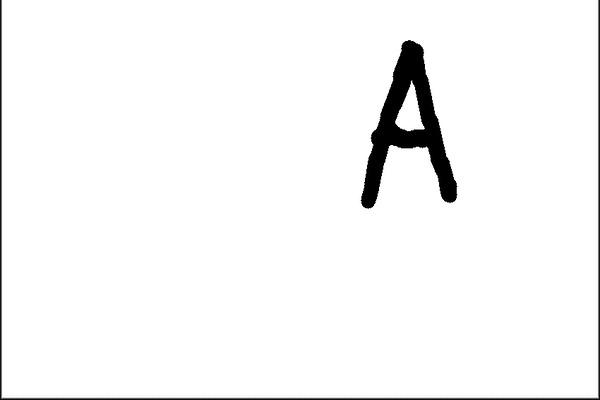A: (351, 30, 471, 216)
